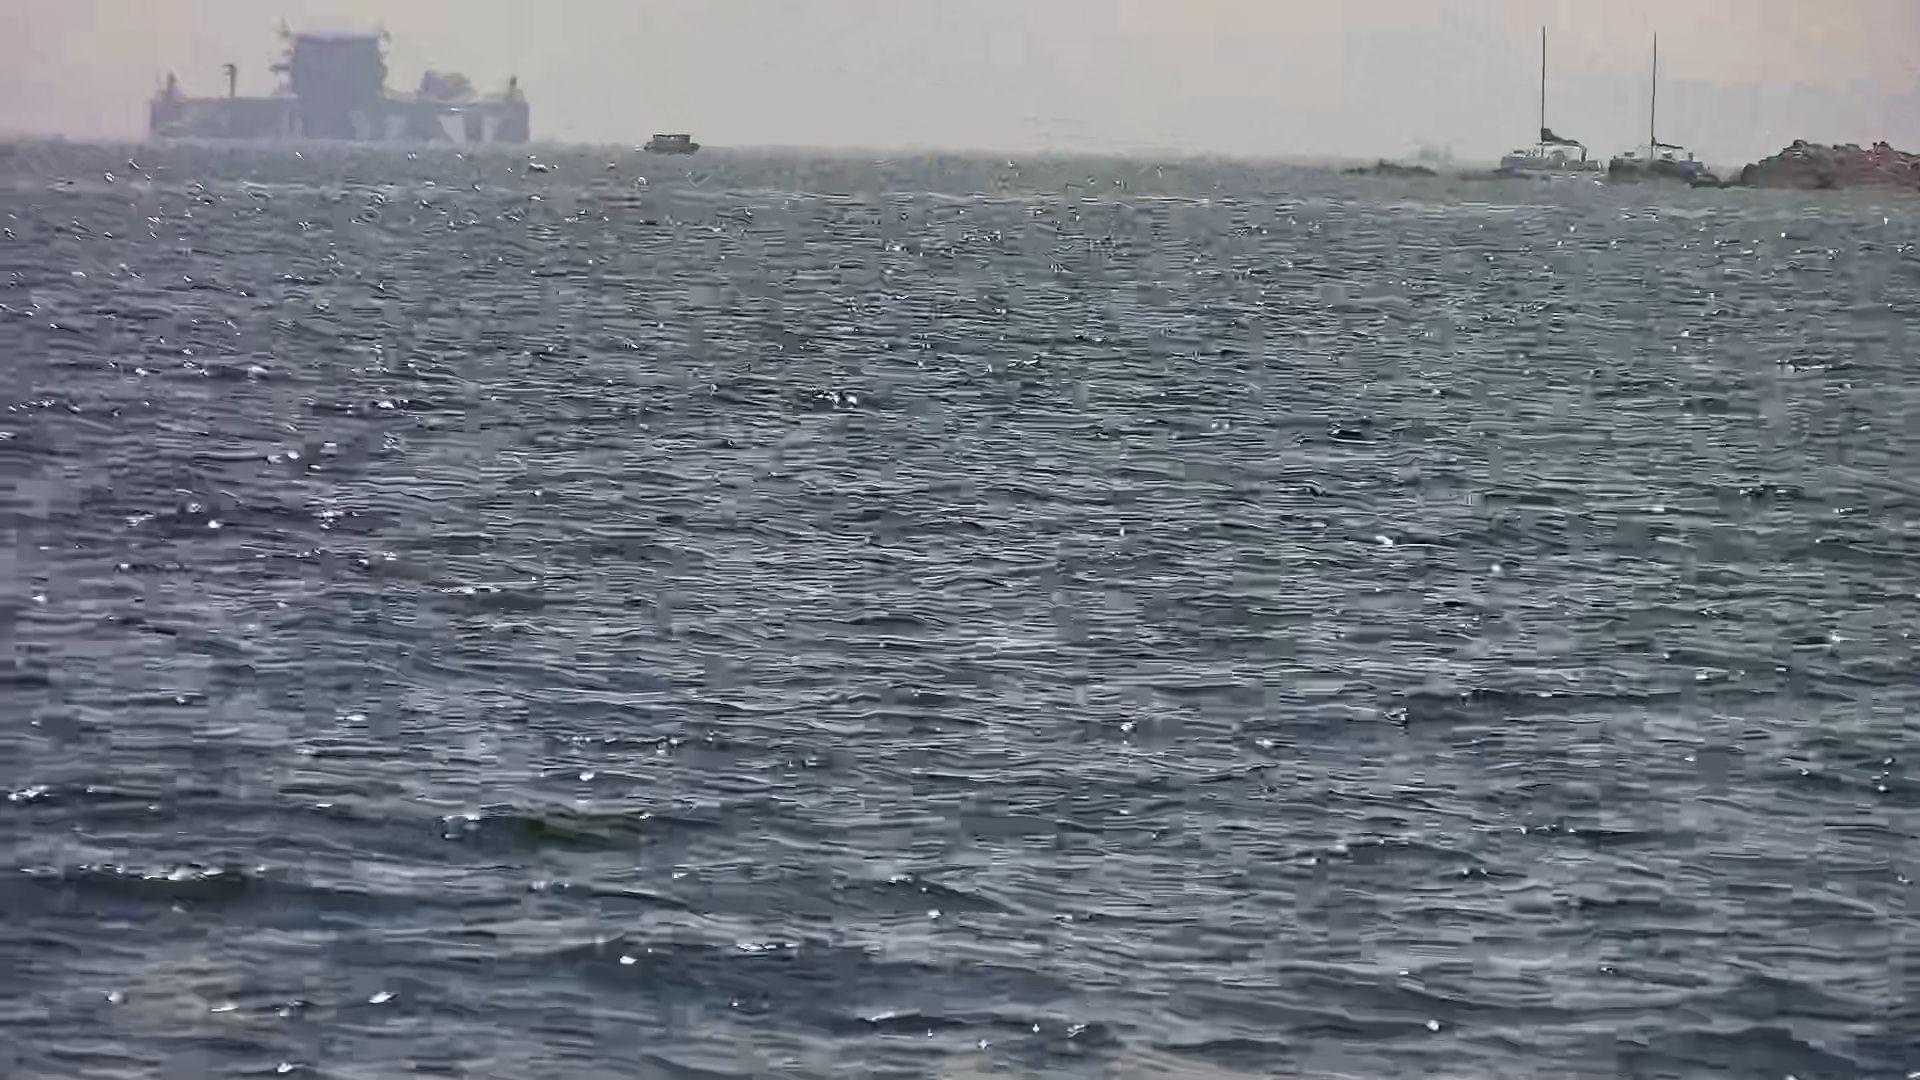boat: (1468, 16, 1604, 191), (1609, 32, 1713, 193), (640, 123, 708, 153)
platform: (145, 16, 527, 152)
rock: (1325, 140, 1451, 179)
